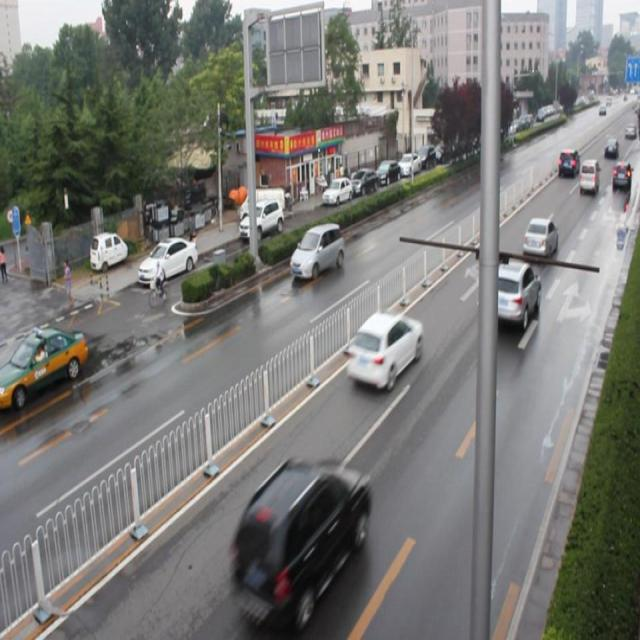car: (232, 461, 370, 619), (347, 306, 423, 394), (485, 259, 539, 332), (287, 222, 345, 280), (522, 218, 556, 262), (610, 161, 629, 190)
truck: (578, 160, 598, 194)
